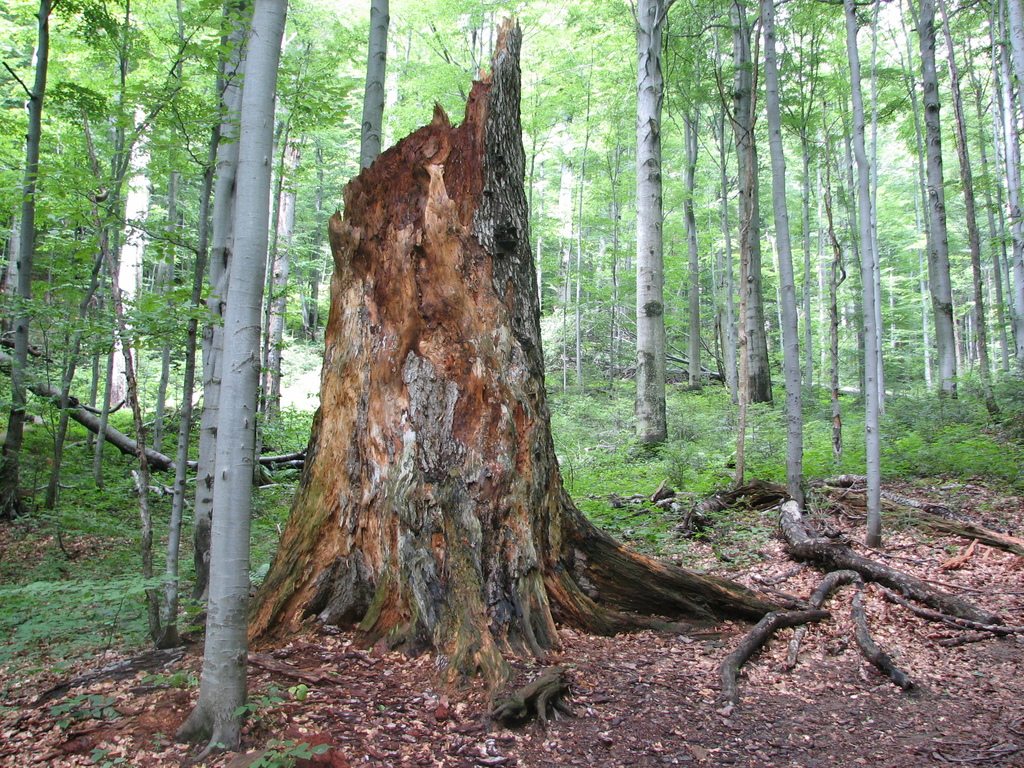Tree: (0, 1, 1024, 760)
